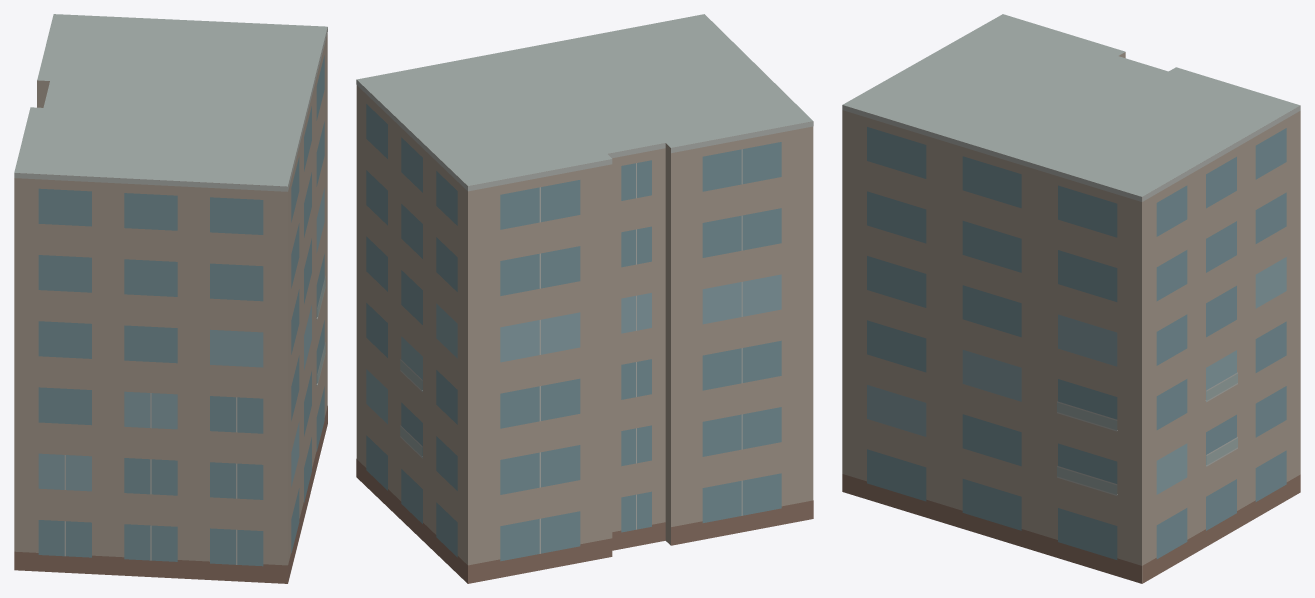
The model's file is survey-upis-32998609.glb.
3 views of the same model, side by side, from view 1: azimuth 30°, elevation 25°; view 2: azimuth 150°, elevation 25°; view 3: azimuth 270°, elevation 25° (orthographic). The views are drawn at different scales.
Visible parts, largest first — view 1: survey-upis-32998609.tmp; view 2: survey-upis-32998609.tmp; view 3: survey-upis-32998609.tmp.
Boxes of the visible parts, x1,y1,x2,y2 form: survey-upis-32998609.tmp: (14,14,327,583); survey-upis-32998609.tmp: (356,14,813,583); survey-upis-32998609.tmp: (842,14,1300,583).
Bounding box in the file's own units: 18.56 × 18.3 × 19.65.
